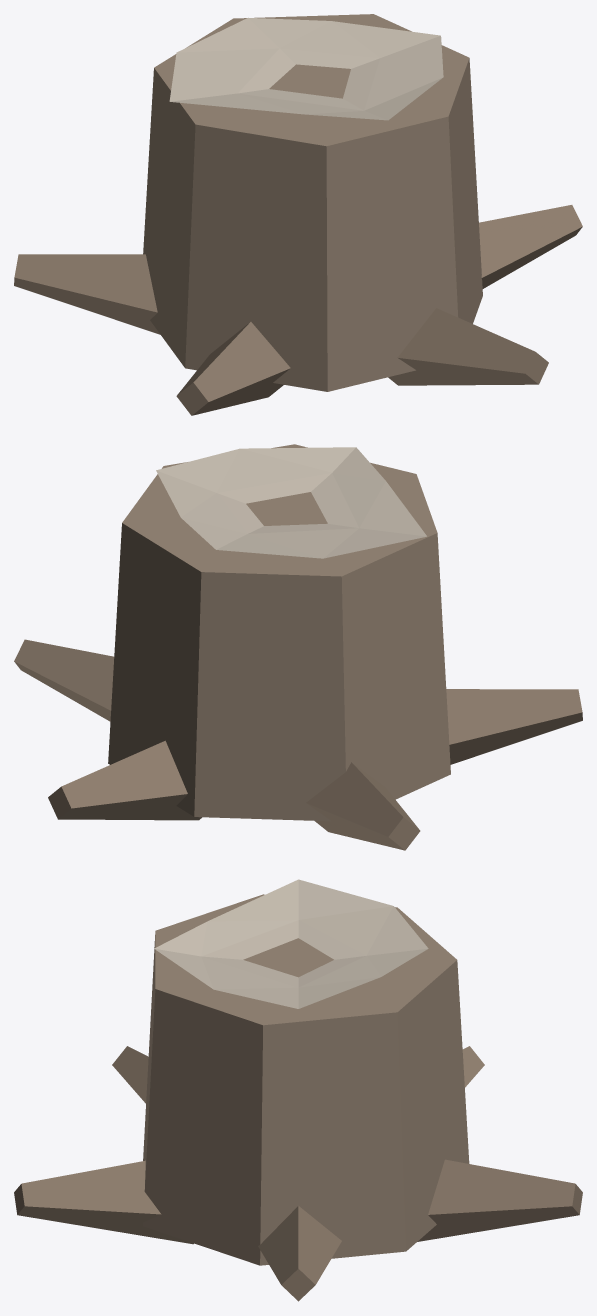
File: stump_v13.glb
3 renders of one model, top to bottom at view 1: azimuth 30°, elevation 25°; view 2: azimuth 150°, elevation 25°; view 3: azimuth 270°, elevation 25°, orthographic. The views are drawn at different scales.
Visible parts, largest first — view 1: lod0; view 2: lod0; view 3: lod0.
Boxes of the visible parts, bbox=[...] form: lod0: bbox=[14, 14, 582, 415]; lod0: bbox=[14, 444, 582, 850]; lod0: bbox=[14, 879, 582, 1301].
Size of what is drawn, in the model's own units: 0.8812 by 0.531 by 0.9227.
